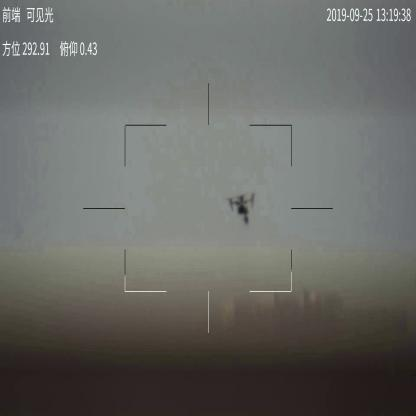uav: (227, 193, 256, 225)
